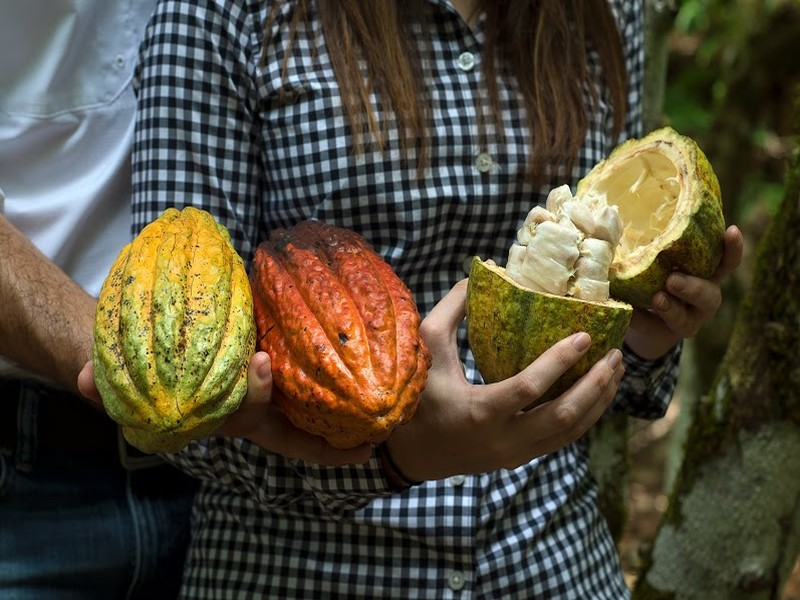Cacaopod: (252, 220, 430, 450), (93, 205, 257, 453)
